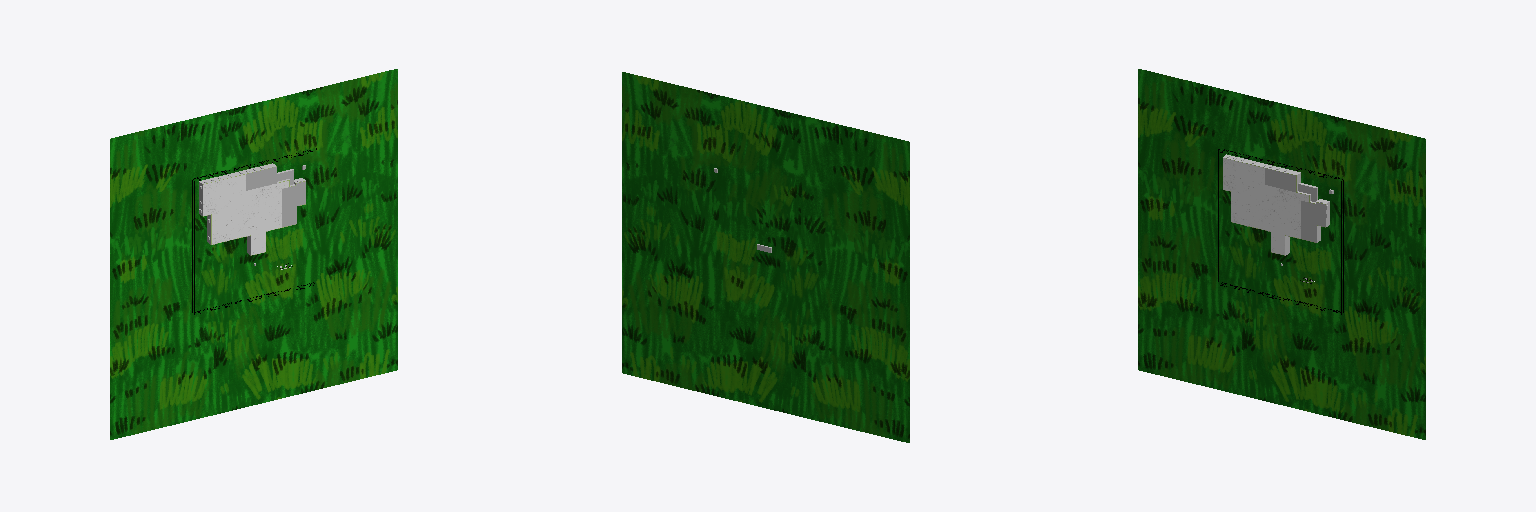
3 views of the same model, side by side, from view 1: azimuth 30°, elevation 25°; view 2: azimuth 150°, elevation 25°; view 3: azimuth 330°, elevation 25° (orthographic).
Visible parts, largest first — view 1: S_Grass_Plane, S_Ceiling, S_Walls; view 2: S_Grass_Plane; view 3: S_Grass_Plane, S_Ceiling, Plane_Plane.001, S_Walls.
Boxes of the visible parts, box(x1,y1,x2,y2) form: S_Grass_Plane: box(110, 69, 397, 439); S_Ceiling: box(203, 167, 305, 254); S_Walls: box(199, 163, 305, 255); S_Grass_Plane: box(622, 72, 909, 442); S_Grass_Plane: box(1138, 69, 1425, 439); S_Ceiling: box(1223, 158, 1325, 254); Plane_Plane.001: box(1218, 149, 1343, 314); S_Walls: box(1223, 154, 1329, 255).
Bounding box in the file's own units: 78.92 × 78.92 × 2.79.
Materials: 37 (24 with a texture image).